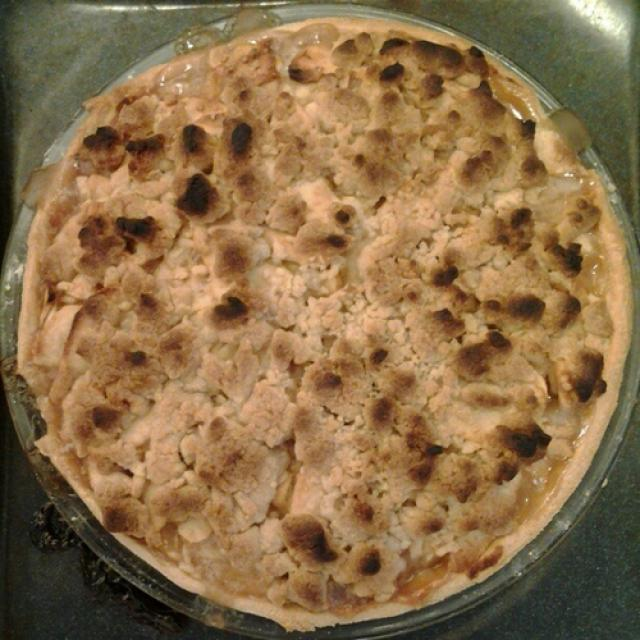炸货点心: (23, 21, 616, 613)
蛋糕甜品: (23, 21, 616, 613)
